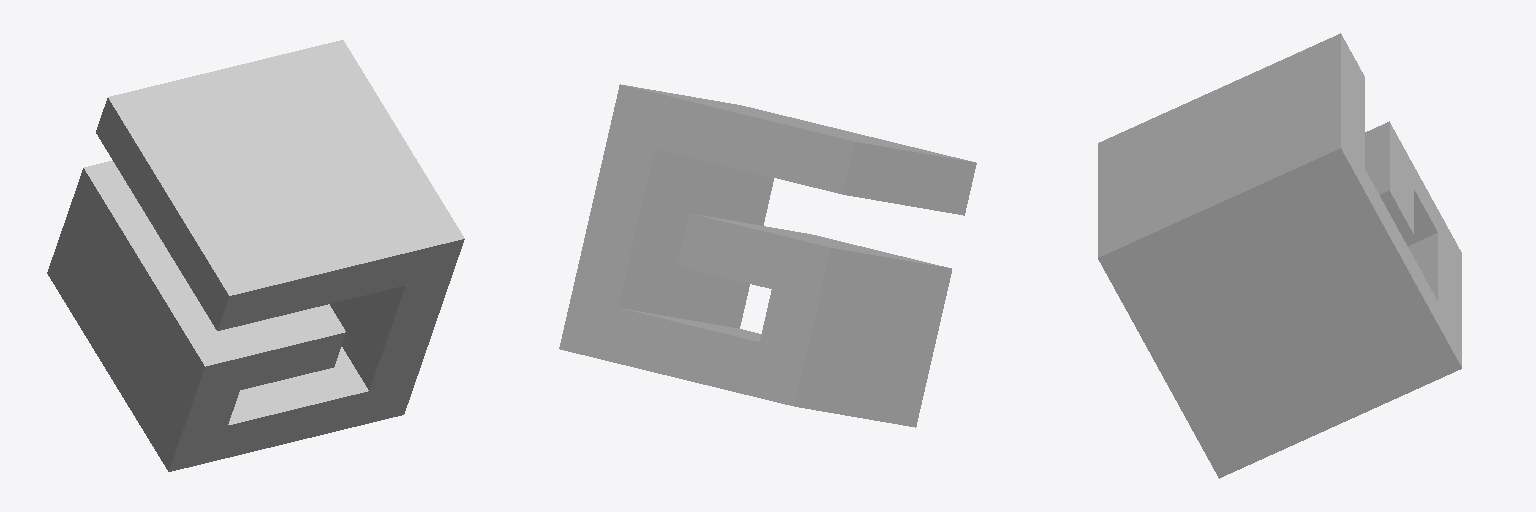
The model's file is gestalt_cube.obj.
3 renders of one model, left to right at view 1: azimuth 30°, elevation 25°; view 2: azimuth 150°, elevation 25°; view 3: azimuth 270°, elevation 25°, orthographic.
Visible parts, largest first — view 1: Cube.001; view 2: Cube.001; view 3: Cube.001.
Part boxes in pixels (x1,y1,x2,y2): Cube.001: (47,40,464,471); Cube.001: (559,84,976,427); Cube.001: (1098,33,1461,478).
Bounding box in the file's own units: 59.85 × 80.28 × 80.28.